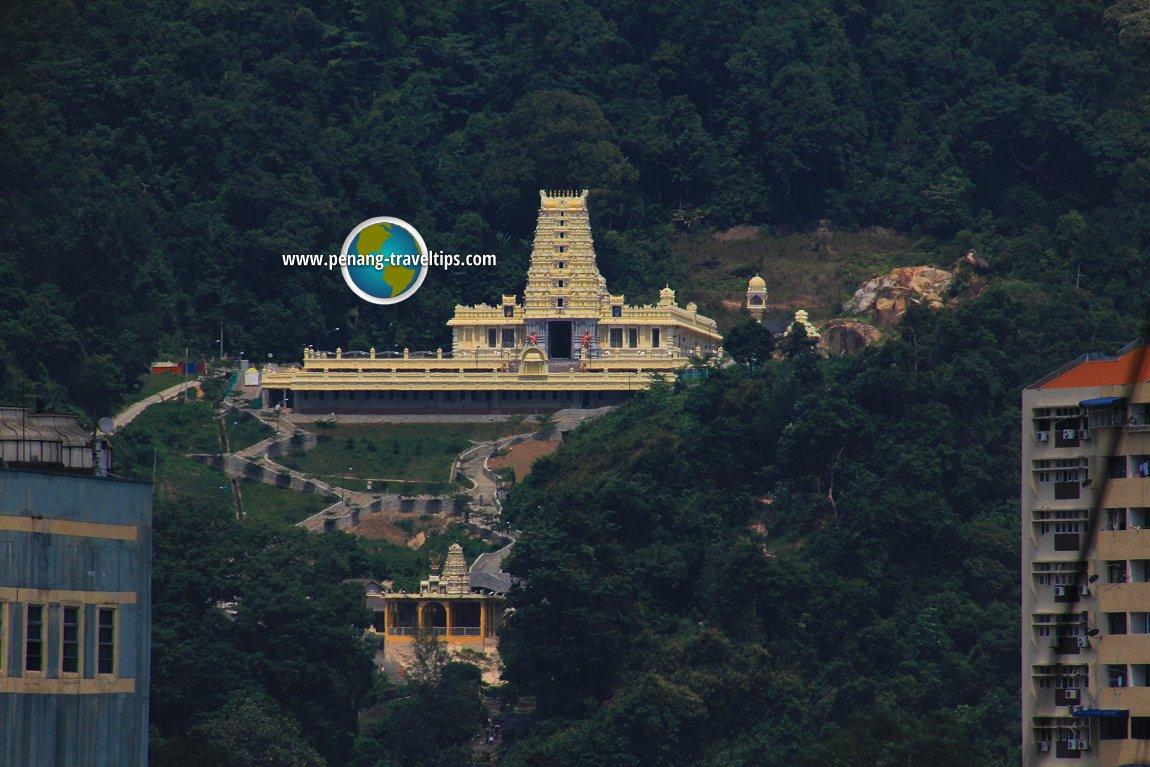Hindu Temple: (305, 171, 709, 382)
